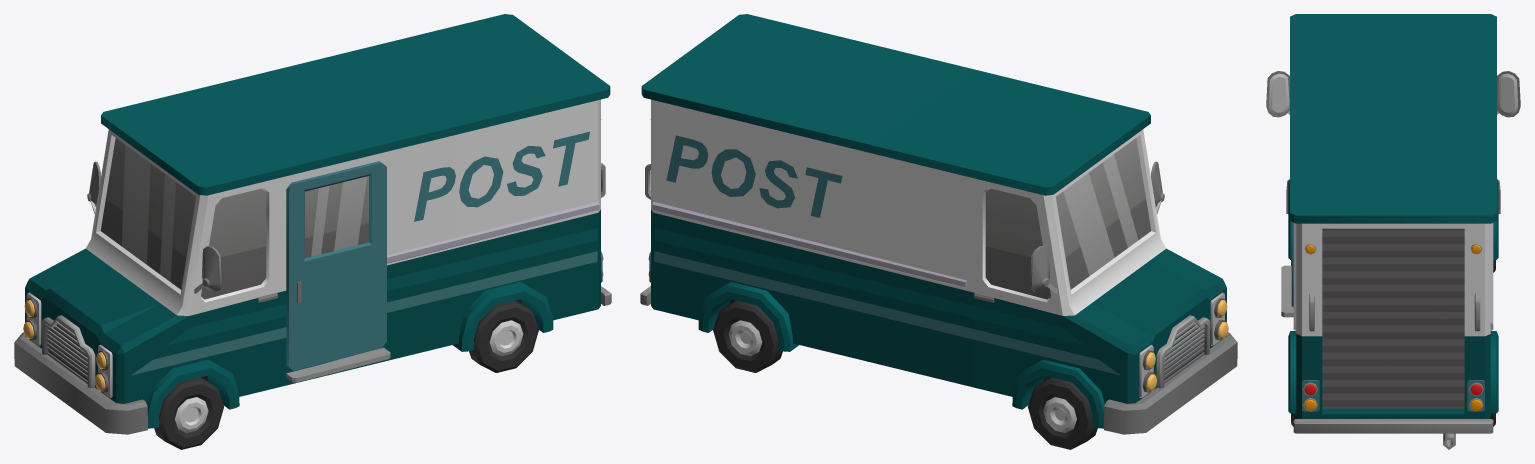
Rendered from PostCar_1_D.gltf.
The picture shows the model from 3 angles, left to right: view 1: azimuth 30°, elevation 25°; view 2: azimuth 150°, elevation 25°; view 3: azimuth 270°, elevation 25°; orthographic projection.
Parts seen in each view (by area): view 1: PostCar_1_D, RL, FL; view 2: PostCar_1_D, RR, FR; view 3: PostCar_1_D.
Boxes of the visible parts, left/top/right/bottom form: PostCar_1_D: left=14, top=14, right=611, bottom=434; RL: left=469, top=300, right=538, bottom=372; FL: left=154, top=377, right=223, bottom=449; PostCar_1_D: left=640, top=14, right=1237, bottom=434; RR: left=713, top=300, right=782, bottom=372; FR: left=1028, top=377, right=1097, bottom=449; PostCar_1_D: left=1266, top=14, right=1520, bottom=449.
Bounding box in the file's own units: 4.14 × 2.02 × 1.8.
5 materials, 5 textured.
